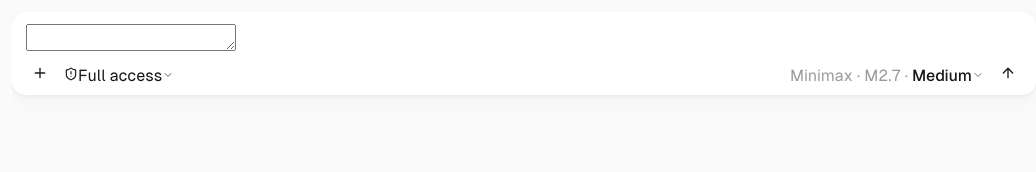
Composer › closes an already-open file menu when the workspace changes
What coordinates should you click on to do the following:
click the button named "add attachment"
I would click on:
 (40, 76)
Its box is [26,64,54,87].
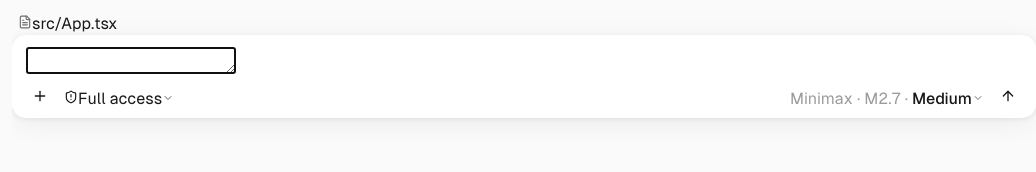
Now the list named "File suggestions" is shown, box [12,12,124,35]
